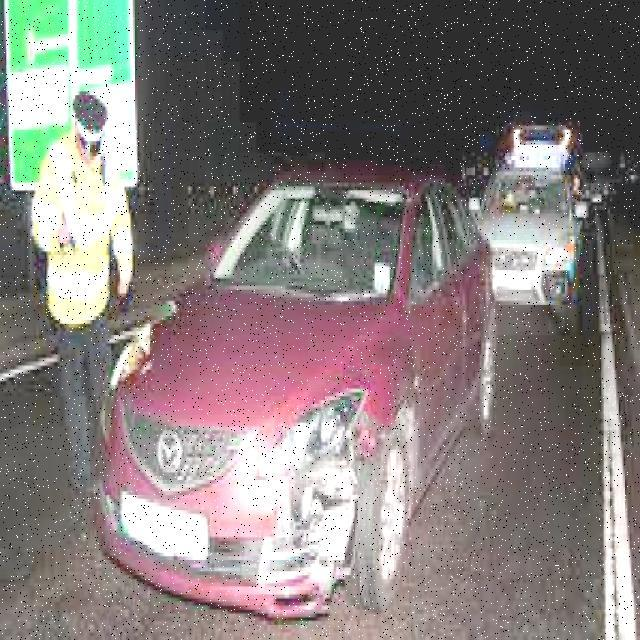car damage: (242, 340, 423, 618)
